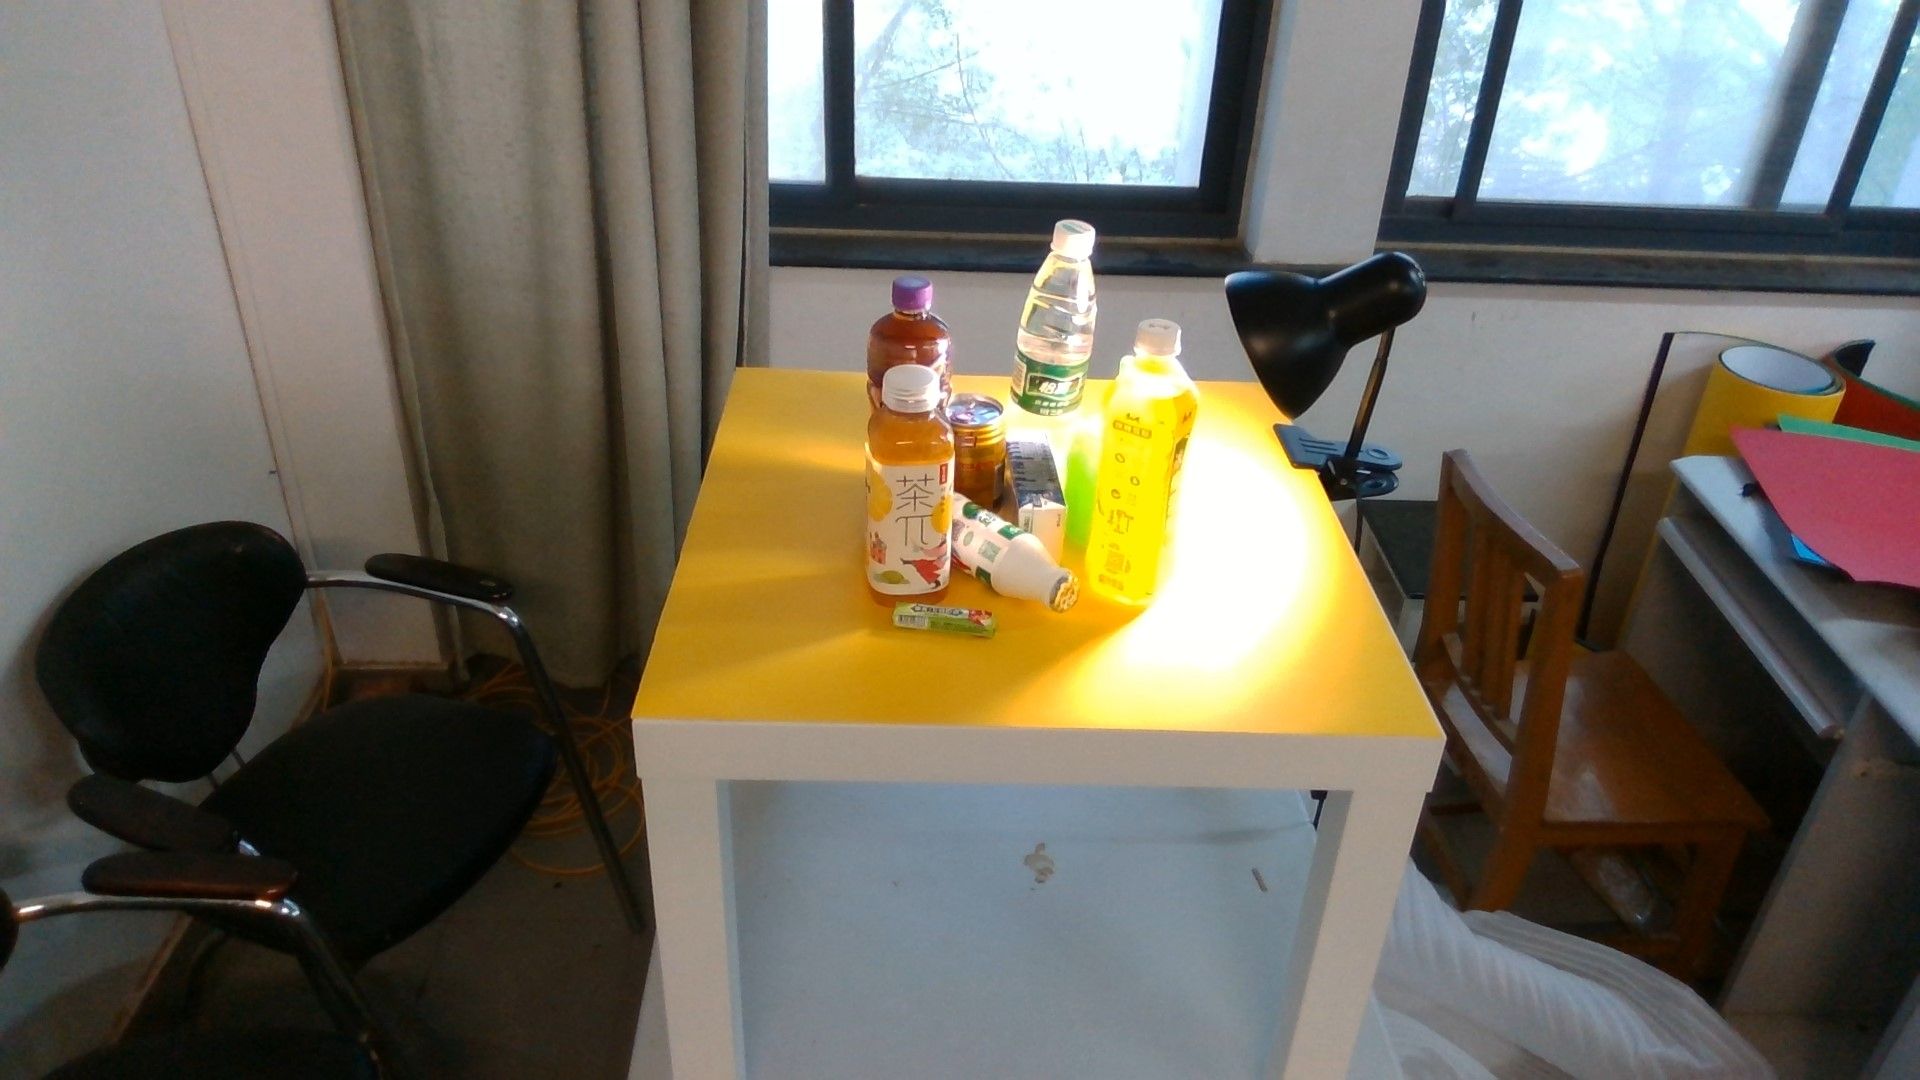BB002: (895, 599, 998, 638)
BB010: (1007, 435, 1065, 527)
ZA002: (1069, 433, 1091, 541)
ZC004: (953, 392, 1007, 491)
ZC005: (955, 525, 1083, 609)
ZC009: (865, 273, 952, 364)
ZC011: (1093, 319, 1195, 607)
ZC012: (865, 367, 953, 600)
ZC017: (1011, 218, 1095, 433)
